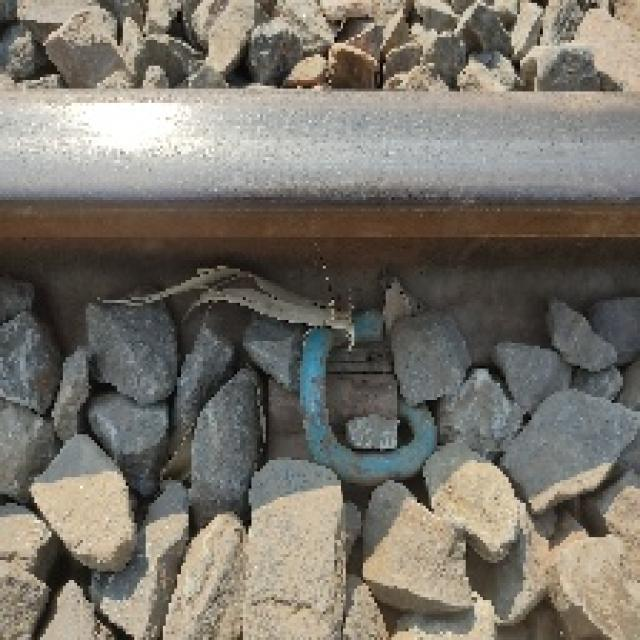Good Fasteners: (243, 311, 434, 483)
